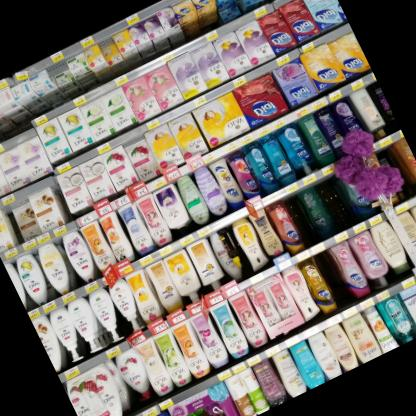empty_space: (311, 165, 362, 233), (310, 241, 353, 310), (279, 181, 322, 247)
